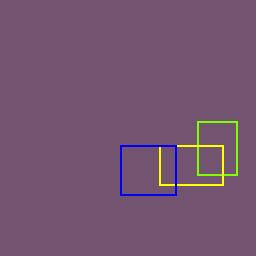Gloves: (159, 144, 223, 185)
Person: (120, 144, 176, 195)
Safety Vest: (197, 120, 237, 176)
